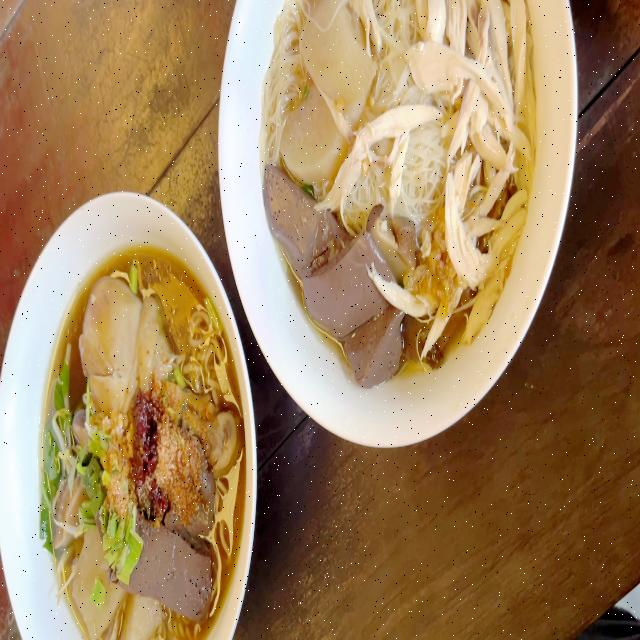boiled_chicken_blood_jelly: (266, 168, 338, 272), (136, 516, 212, 614), (308, 242, 375, 324), (356, 309, 404, 374), (192, 450, 218, 538)
chicken_drumstick: (76, 295, 248, 467)
chicken_shredded: (418, 0, 526, 320), (321, 102, 449, 202), (414, 45, 511, 117), (370, 268, 434, 314)
daikon_radish: (301, 0, 373, 118), (277, 84, 343, 181), (77, 535, 126, 628), (129, 602, 158, 640)
noodle: (253, 0, 537, 365), (40, 282, 253, 640)
